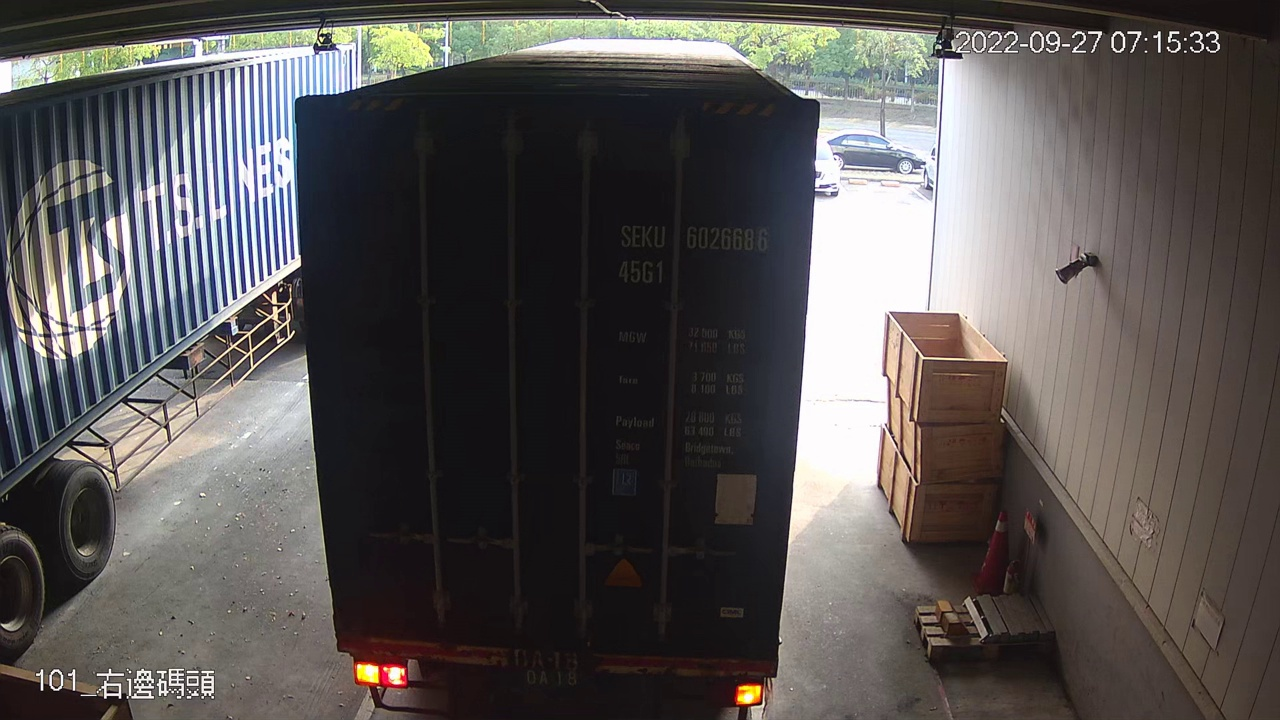container: (607, 212, 777, 292)
